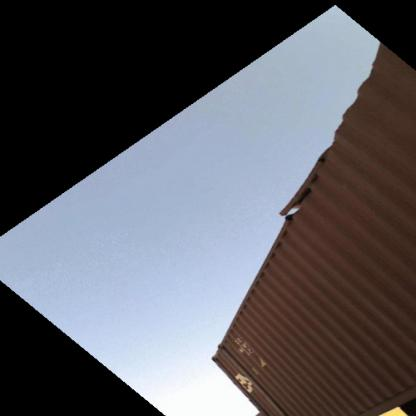Damage: (274, 136, 352, 226), (214, 336, 290, 416)
